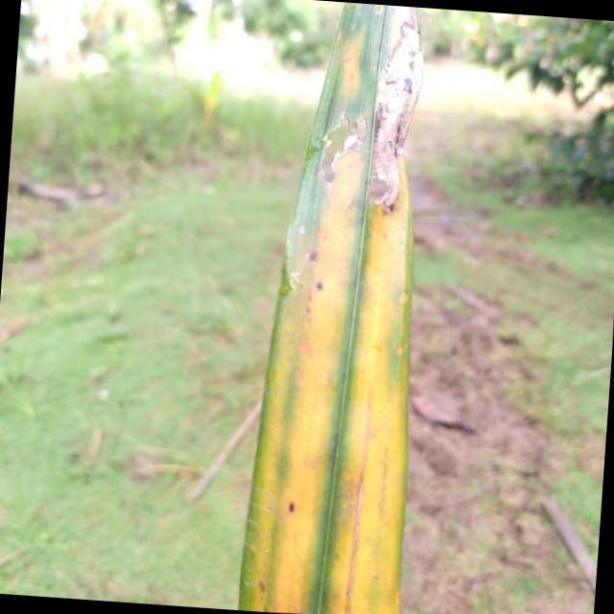Megnesium: (236, 0, 424, 614)
